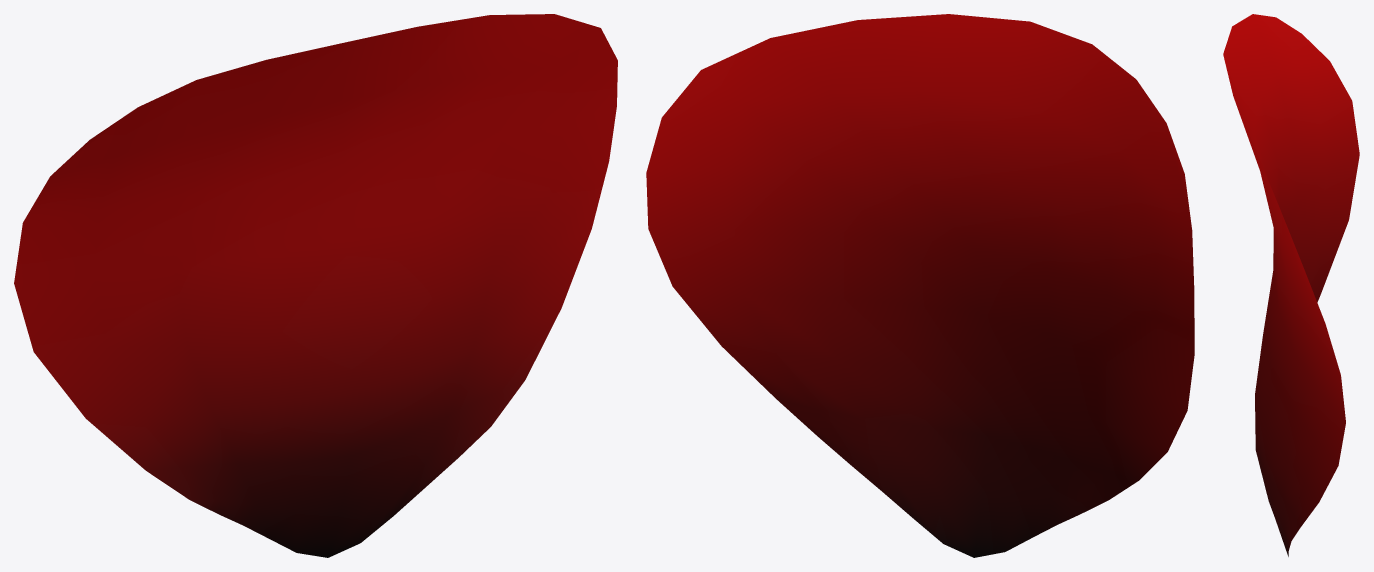
3 renders of one model, left to right at view 1: azimuth 30°, elevation 25°; view 2: azimuth 150°, elevation 25°; view 3: azimuth 270°, elevation 25°, orthographic. The views are drawn at different scales.
Visible parts, largest first — view 1: gorgonian coral final.001; view 2: gorgonian coral final.001; view 3: gorgonian coral final.001.
Boxes of the visible parts, bbox=[...] form: gorgonian coral final.001: bbox=[14, 14, 617, 557]; gorgonian coral final.001: bbox=[646, 14, 1194, 557]; gorgonian coral final.001: bbox=[1223, 14, 1359, 556].
Size of the model in its own units: 1.63 by 1.44 by 0.3664.
